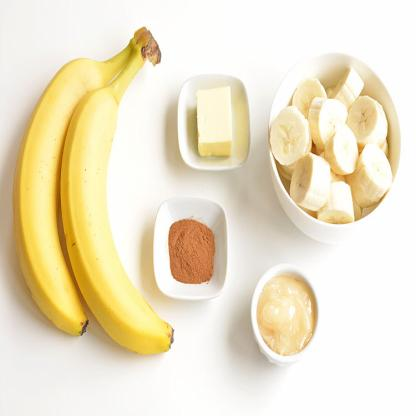banana: (63, 94, 179, 358), (12, 46, 94, 350)
